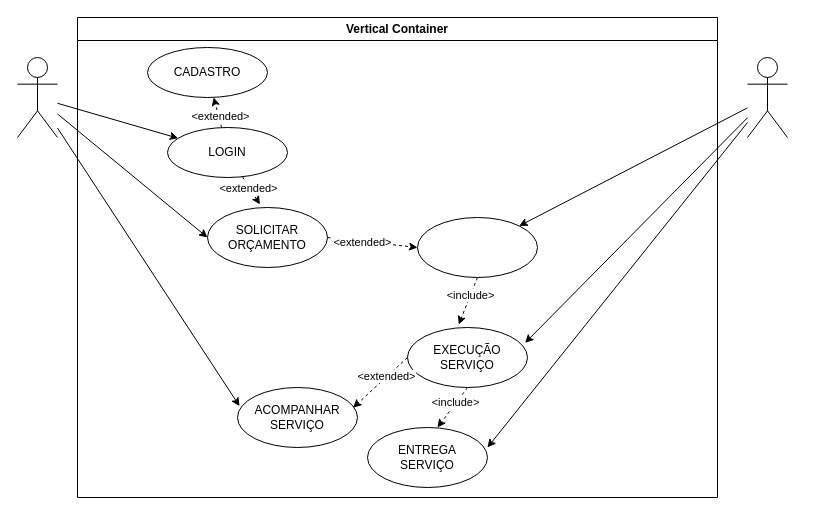
Image size: 816x515. Some labels were removed from this diagram. Here are the shapes that lost their labels. From the top down, the centre of each, then its label:
At (37,97): "Usuario".
At (767,97): "Funcionario".
At (477,247): "APROVAR ORÇAMENTO".
